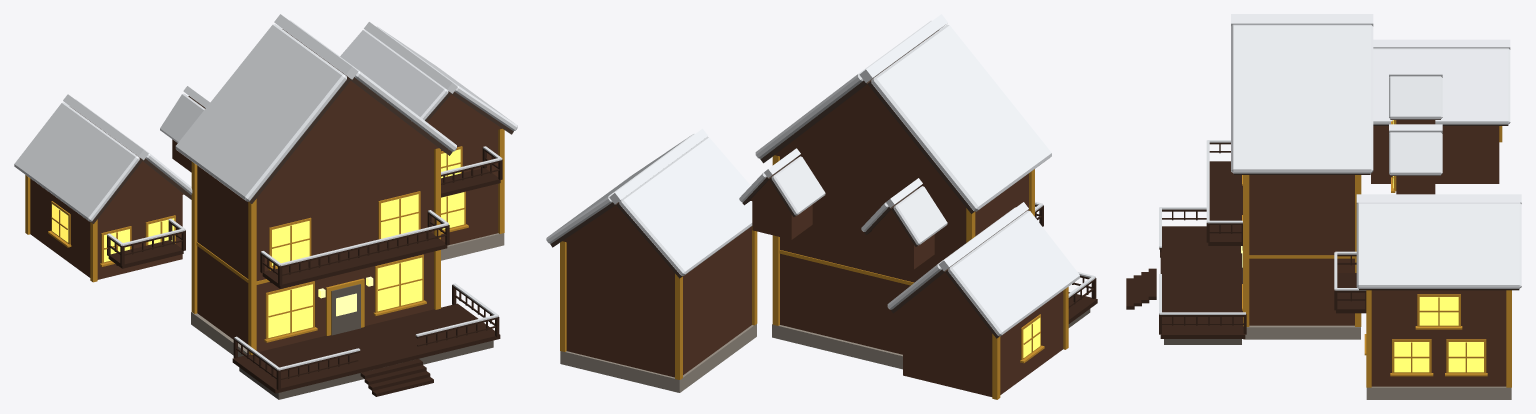
The model's file is lodge-annex-2-chalet70s.glb.
3 renders of one model, left to right at view 1: azimuth 30°, elevation 25°; view 2: azimuth 150°, elevation 25°; view 3: azimuth 270°, elevation 25°, orthographic. The views are drawn at different scales.
Visible parts, largest first — view 1: lodge-annex-2-chalet70s; view 2: lodge-annex-2-chalet70s; view 3: lodge-annex-2-chalet70s.
Boxes of the visible parts, x1,y1,x2,y2 form: lodge-annex-2-chalet70s: [14, 14, 517, 399]; lodge-annex-2-chalet70s: [546, 14, 1097, 399]; lodge-annex-2-chalet70s: [1126, 14, 1521, 399].
Bounding box in the file's own units: 25.07 × 15.95 × 20.28.
